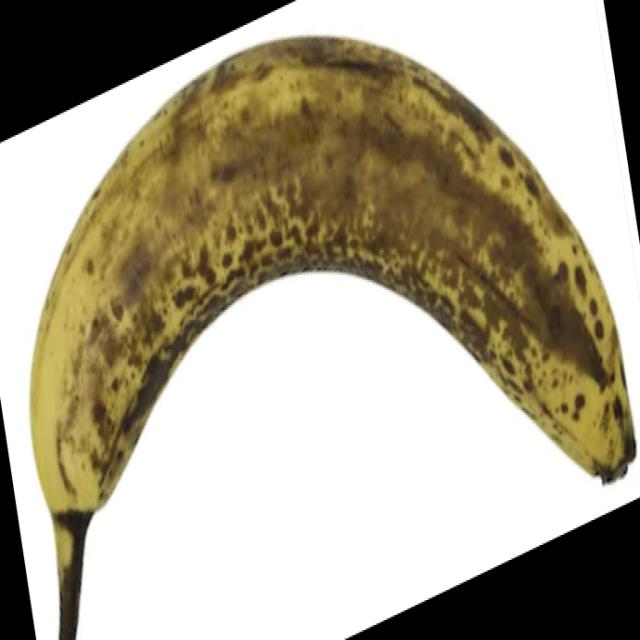overripe: (27, 28, 640, 640)
